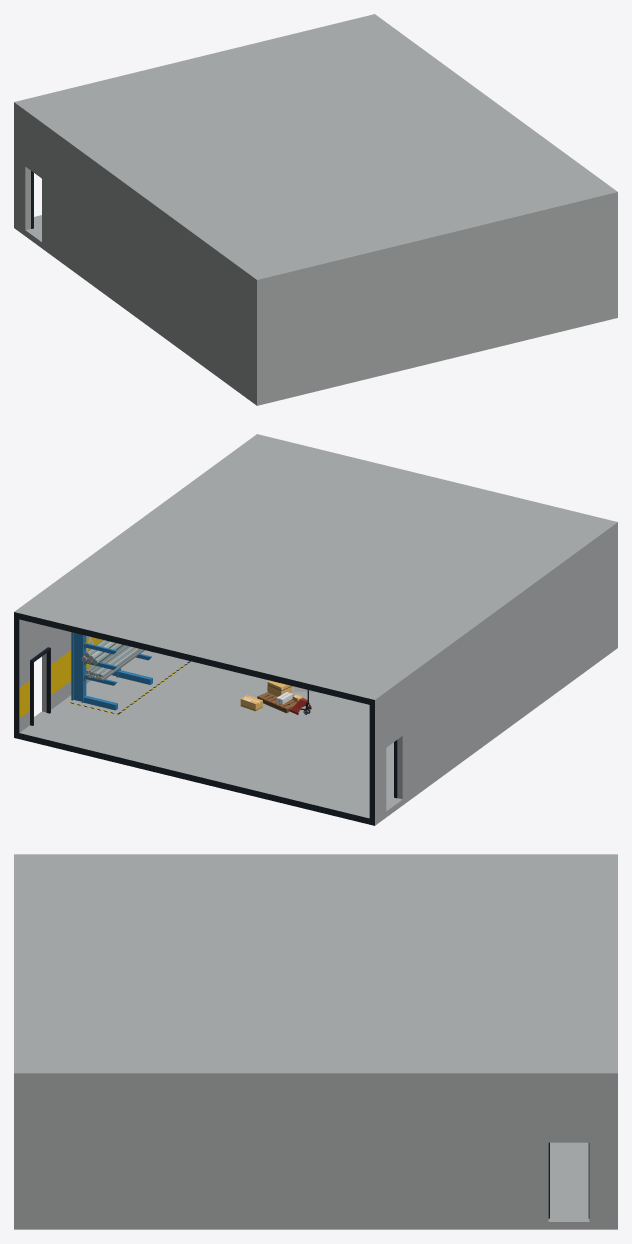
Rendered from Room_Raw_Material_Storage_002.fbx.
The picture shows the model from 3 angles, top to bottom: view 1: azimuth 30°, elevation 25°; view 2: azimuth 150°, elevation 25°; view 3: azimuth 270°, elevation 25°; orthographic projection. The views are drawn at different scales.
Visible parts, largest first — view 1: Room_Raw_Material_Storage_002; view 2: Room_Raw_Material_Storage_002; view 3: Room_Raw_Material_Storage_002.
Part boxes in pixels (bbox=[...]): Room_Raw_Material_Storage_002: bbox=[14, 14, 617, 405]; Room_Raw_Material_Storage_002: bbox=[14, 434, 617, 825]; Room_Raw_Material_Storage_002: bbox=[14, 854, 617, 1229].
Bounding box in the file's own units: 1200 × 400 × 1400.
